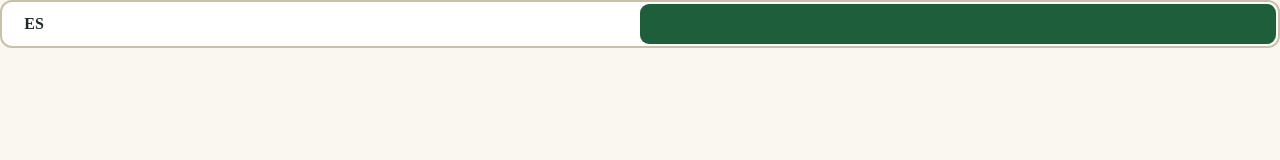
Test: picking Español puts lang=es in the URL; picking English takes it out
Later steps or results of the test are not shown.
Click the radio button with aria-label "Español": [34, 24] box [24,15,44,32]
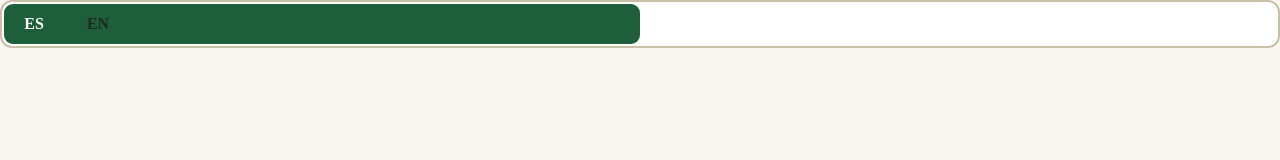
Result: the radio button with aria-label "Español" is checked at [24,15,44,32]
